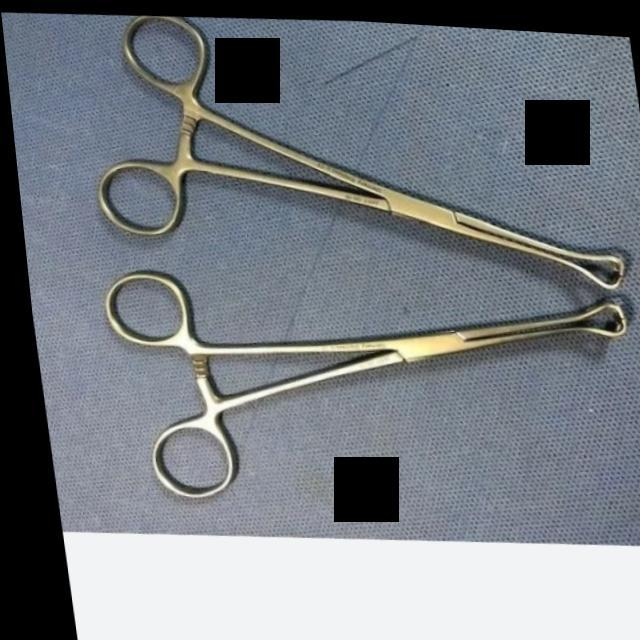Babcock Forceps: (66, 3, 629, 300), (89, 252, 640, 522)
